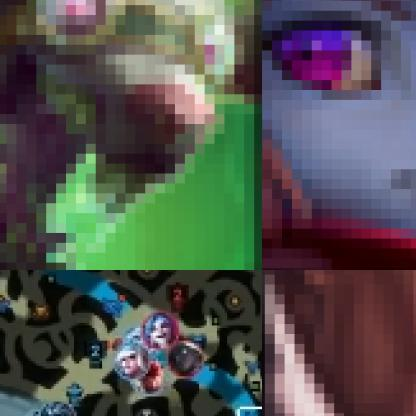Janna: (113, 344, 151, 380)
Jinx: (142, 312, 180, 351)
Karthus: (40, 399, 79, 415)
Lee Sin: (128, 359, 168, 395)
Lucian: (262, 270, 415, 415)
Poppy: (262, 0, 415, 269)
Senna: (167, 339, 206, 379)
Twitch: (0, 0, 261, 269)
